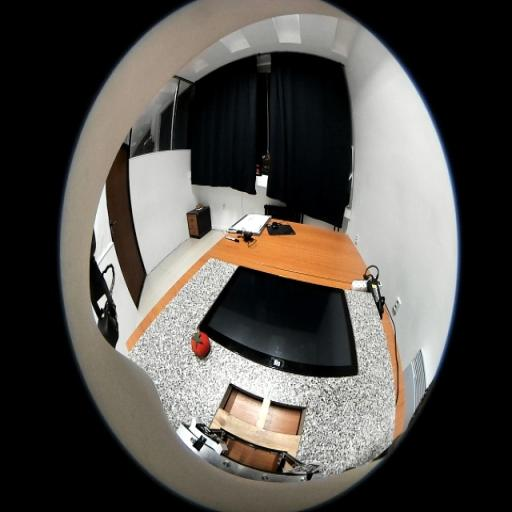Tomato: (191, 332, 210, 357)
